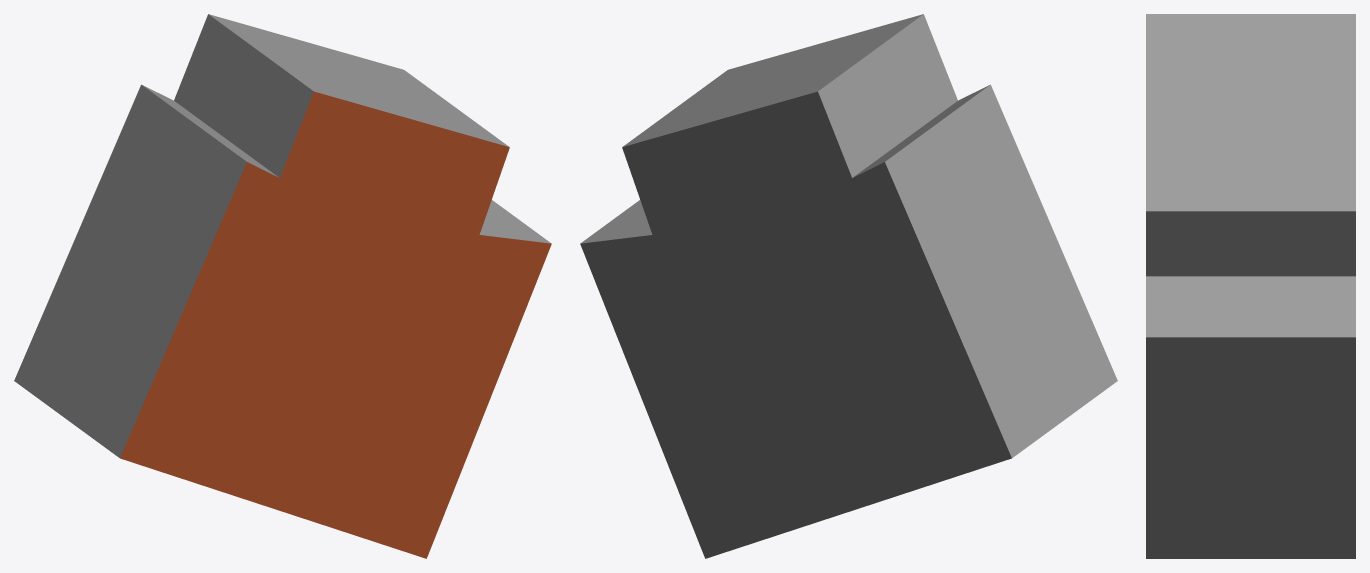
File: construction_3673_assumed_A_Casa_h6m.obj
3 views of the same model, side by side, from view 1: azimuth 30°, elevation 25°; view 2: azimuth 150°, elevation 25°; view 3: azimuth 270°, elevation 25° (orthographic).
Parts seen in each view (by area): view 1: construction_3673_assumed_A_Casa; view 2: construction_3673_assumed_A_Casa; view 3: construction_3673_assumed_A_Casa.
Boxes of the visible parts, x1,y1,x2,y2 form: construction_3673_assumed_A_Casa: (14,14,551,558); construction_3673_assumed_A_Casa: (580,14,1117,558); construction_3673_assumed_A_Casa: (1146,14,1355,558).
Bounding box in the file's own units: 14.13 × 15.48 × 6.
